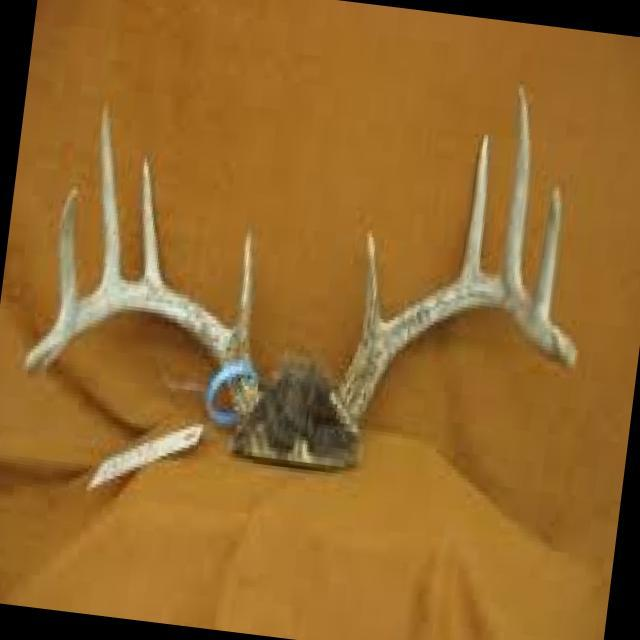L-F: (333, 277, 580, 431)
L-G1: (361, 229, 383, 340)
L-G2: (458, 131, 493, 281)
L-G3: (501, 85, 533, 289)
L-G4: (531, 184, 562, 319)
R-F: (24, 281, 261, 420)
R-G1: (232, 227, 254, 351)
R-G2: (140, 155, 164, 288)
R-G3: (98, 103, 121, 286)
R-G4: (56, 185, 79, 322)
